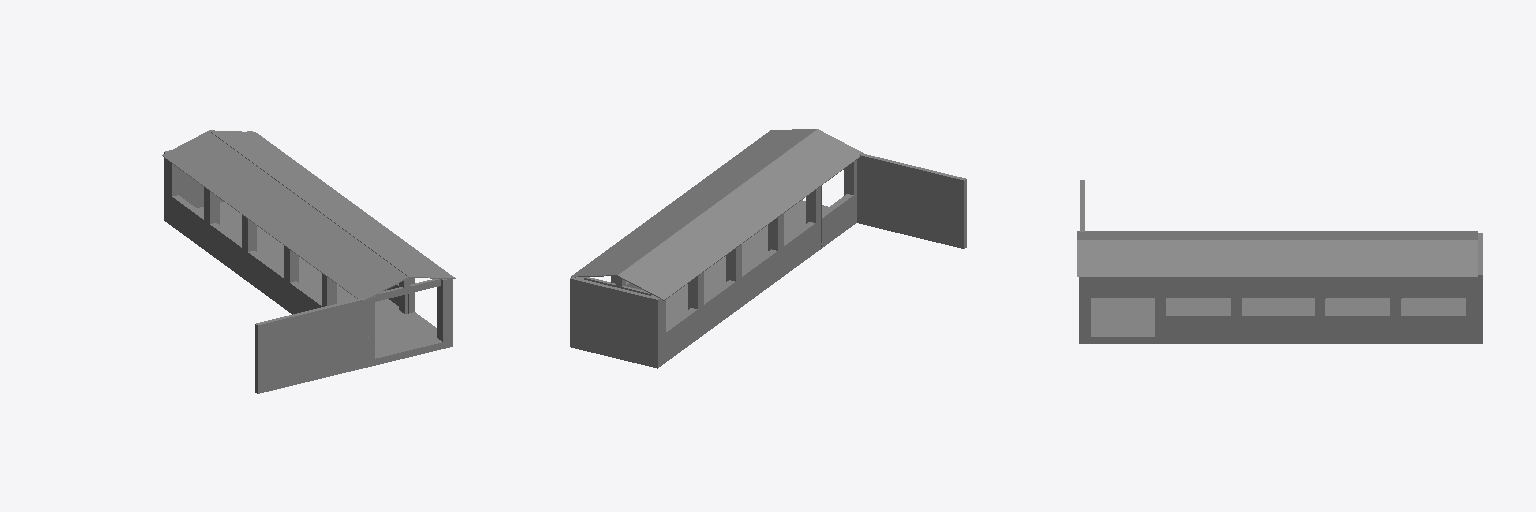
Rendered from Coridor.obj.
3 views of the same model, side by side, from view 1: azimuth 30°, elevation 25°; view 2: azimuth 150°, elevation 25°; view 3: azimuth 270°, elevation 25° (orthographic).
Visible parts, largest first — view 1: Box014; view 2: Box014; view 3: Box014.
Boxes of the visible parts, <box> form: Box014: <box>162,130,455,393</box>; Box014: <box>570,129,966,368</box>; Box014: <box>1077,180,1482,343</box>.
Bounding box in the file's own units: 355 × 140 × 631.